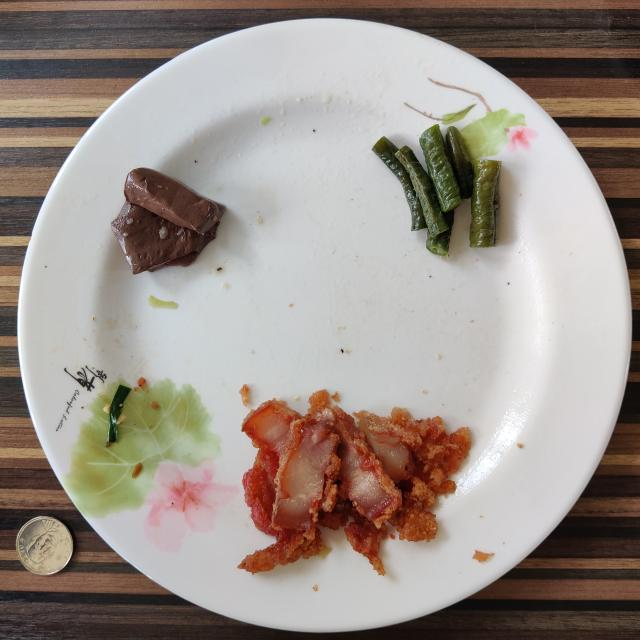coin: (16, 516, 74, 575)
pig blood curd: (111, 168, 225, 274)
red grilled pork: (239, 390, 471, 575)
